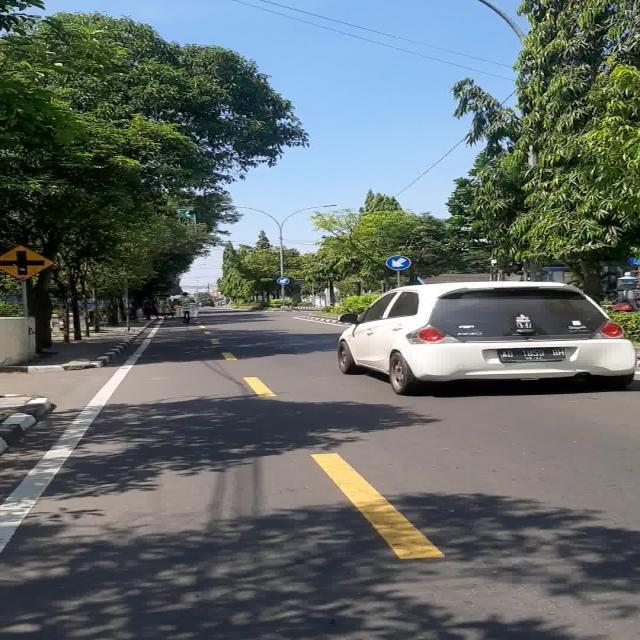Lajur Kiri: (386, 256, 410, 270)
